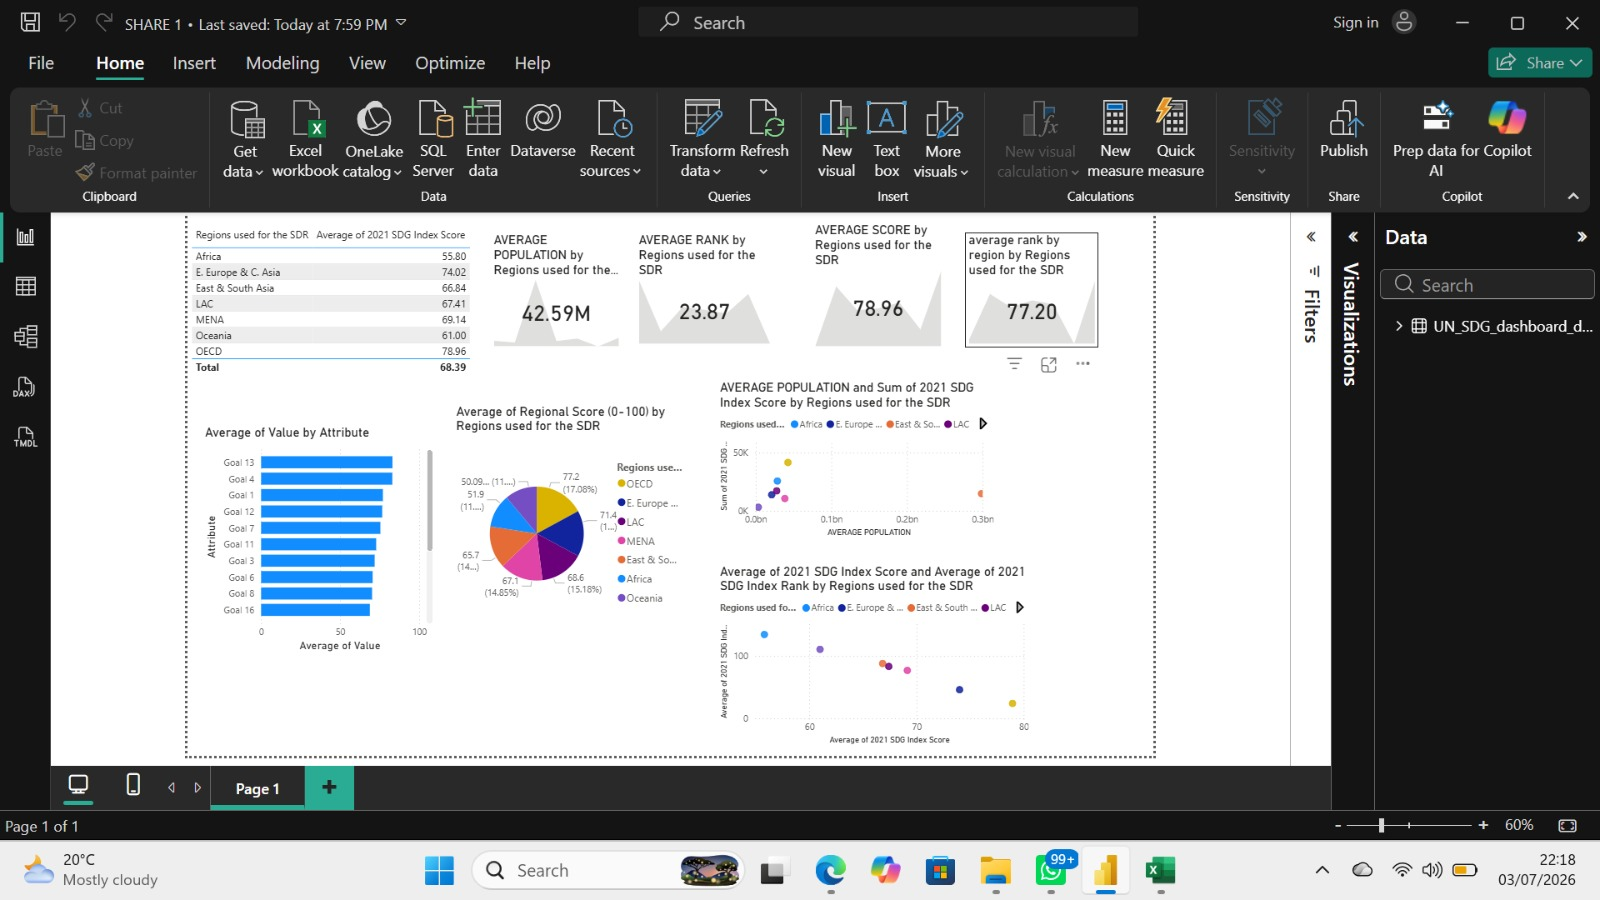

The dashboard page shown, as its layout file describes it:
{"tool":"powerbi","page":{"name":"Page 1","canvas":[1280,720],"ordinal":0},"visuals":[{"type":"tableEx","fields":{"Values":["UN_SDG_dashboard_data (2).Regions used for the SDR","UN_SDG_dashboard_data (2).2021 SDG Index Score"]},"box":[0,13.3,419.1,240.2],"z":0},{"type":"clusteredBarChart","fields":{"Category":["UN_SDG_dashboard_data (2).Attribute"],"Y":["Avg(UN_SDG_dashboard_data (2).Value)"]},"box":[18.2,281.6,311.4,304.8],"z":1000},{"type":"kpi","fields":{"Indicator":["UN_SDG_dashboard_data (2).AVERAGE POPULATION"],"TrendLine":["UN_SDG_dashboard_data (2).Regions used for the SDR"]},"box":[400.9,26.5,175.6,155.7],"z":2000},{"type":"kpi","fields":{"Indicator":["UN_SDG_dashboard_data (2).AVERAGE RANK"],"TrendLine":["UN_SDG_dashboard_data (2).Regions used for the SDR"]},"box":[593,26.5,183.9,152.4],"z":3000},{"type":"kpi","fields":{"Indicator":["UN_SDG_dashboard_data (2).AVERAGE SCORE"],"TrendLine":["UN_SDG_dashboard_data (2).Regions used for the SDR"]},"box":[826.6,13.3,177.2,169],"z":3001},{"type":"kpi","fields":{"Indicator":["UN_SDG_dashboard_data (2).average rank by region"],"TrendLine":["UN_SDG_dashboard_data (2).Regions used for the SDR"]},"box":[1030.3,26.5,177.2,152.4],"z":3002},{"type":"pieChart","fields":{"Y":["Avg(UN_SDG_dashboard_data (2).Regional Score (0-100))"],"Category":["UN_SDG_dashboard_data (2).Regions used for the SDR"]},"box":[351.2,253.4,314.7,304.8],"z":3003},{"type":"scatterChart","fields":{"X":["Avg(UN_SDG_dashboard_data (2).2021 SDG Index Score)"],"Y":["UN_SDG_dashboard_data (2).2021 SDG Index Rank"],"Series":["UN_SDG_dashboard_data (2).Regions used for the SDR"]},"box":[700.7,465.5,419.1,243.5],"z":3004},{"type":"scatterChart","fields":{"X":["UN_SDG_dashboard_data (2).AVERAGE POPULATION"],"Y":["Sum(UN_SDG_dashboard_data (2).2021 SDG Index Score)"],"Series":["UN_SDG_dashboard_data (2).Regions used for the SDR"]},"box":[700.7,222,372.7,212],"z":3005}]}

Visuals, with their boxes on the page's 1280x720 design canvas (x1, y1, x2, y2). These are canvas units, not pixel positions in the 1600x900 screenshot, which may show the page scaled, cropped or inside an application window:
tableEx - UN_SDG_dashboard_data (2).Regions used for the SDR x UN_SDG_dashboard_data (2).2021 SDG Index Score: {"left": 0, "top": 13, "right": 419, "bottom": 254}
clusteredBarChart - UN_SDG_dashboard_data (2).Attribute x Avg(UN_SDG_dashboard_data (2).Value): {"left": 18, "top": 282, "right": 330, "bottom": 586}
kpi - UN_SDG_dashboard_data (2).AVERAGE POPULATION x UN_SDG_dashboard_data (2).Regions used for the SDR: {"left": 401, "top": 26, "right": 576, "bottom": 182}
kpi - UN_SDG_dashboard_data (2).AVERAGE RANK x UN_SDG_dashboard_data (2).Regions used for the SDR: {"left": 593, "top": 26, "right": 777, "bottom": 179}
kpi - UN_SDG_dashboard_data (2).AVERAGE SCORE x UN_SDG_dashboard_data (2).Regions used for the SDR: {"left": 827, "top": 13, "right": 1004, "bottom": 182}
kpi - UN_SDG_dashboard_data (2).average rank by region x UN_SDG_dashboard_data (2).Regions used for the SDR: {"left": 1030, "top": 26, "right": 1208, "bottom": 179}
pieChart - Avg(UN_SDG_dashboard_data (2).Regional Score (0-100)) x UN_SDG_dashboard_data (2).Regions used for the SDR: {"left": 351, "top": 253, "right": 666, "bottom": 558}
scatterChart - Avg(UN_SDG_dashboard_data (2).2021 SDG Index Score) x UN_SDG_dashboard_data (2).2021 SDG Index Rank: {"left": 701, "top": 466, "right": 1120, "bottom": 709}
scatterChart - UN_SDG_dashboard_data (2).AVERAGE POPULATION x Sum(UN_SDG_dashboard_data (2).2021 SDG Index Score): {"left": 701, "top": 222, "right": 1073, "bottom": 434}
